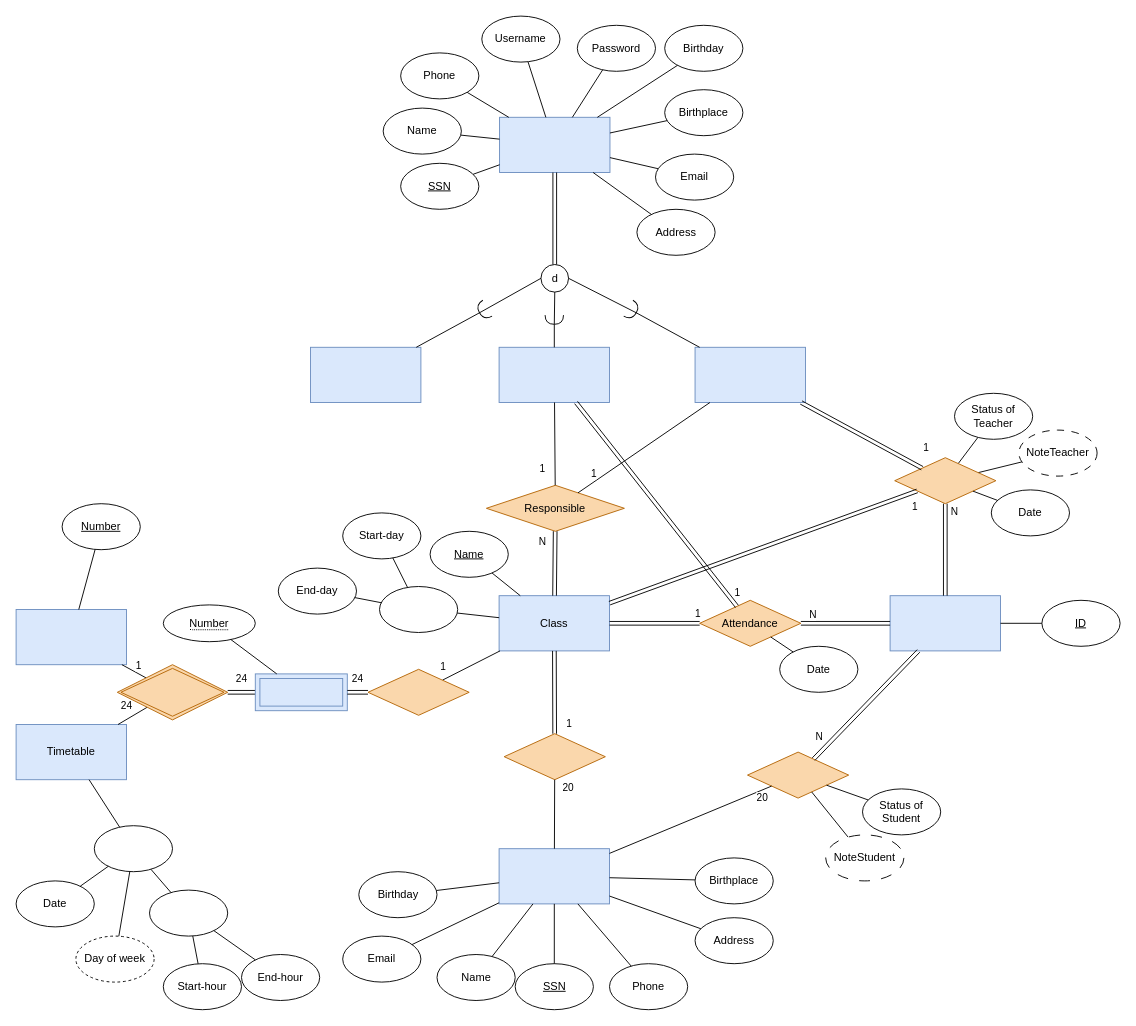
Some shapes in this 1136 by 1026 pixel diagram are drawn without their labels. The centre of each missing label's shape, as x and y in pixels:
"Admin" belongs at point (365, 374).
"Classroom" belongs at point (70, 637).
"Employee" belongs at point (554, 144).
"Have" belongs at point (418, 691).
"Have schedule" belongs at point (172, 692).
"In" belongs at point (798, 774).
"In class" belongs at point (554, 756).
"Manage" belongs at point (945, 480).
"Period" belongs at point (418, 609).
"Report for class" belongs at point (944, 623).
"Session" belongs at point (300, 692).
"Student" belongs at point (554, 876).
"Supervisor" belongs at point (749, 374).
"Teacher" belongs at point (554, 374).
"Time" belongs at point (188, 912).
"Time-period" belongs at point (132, 848).
